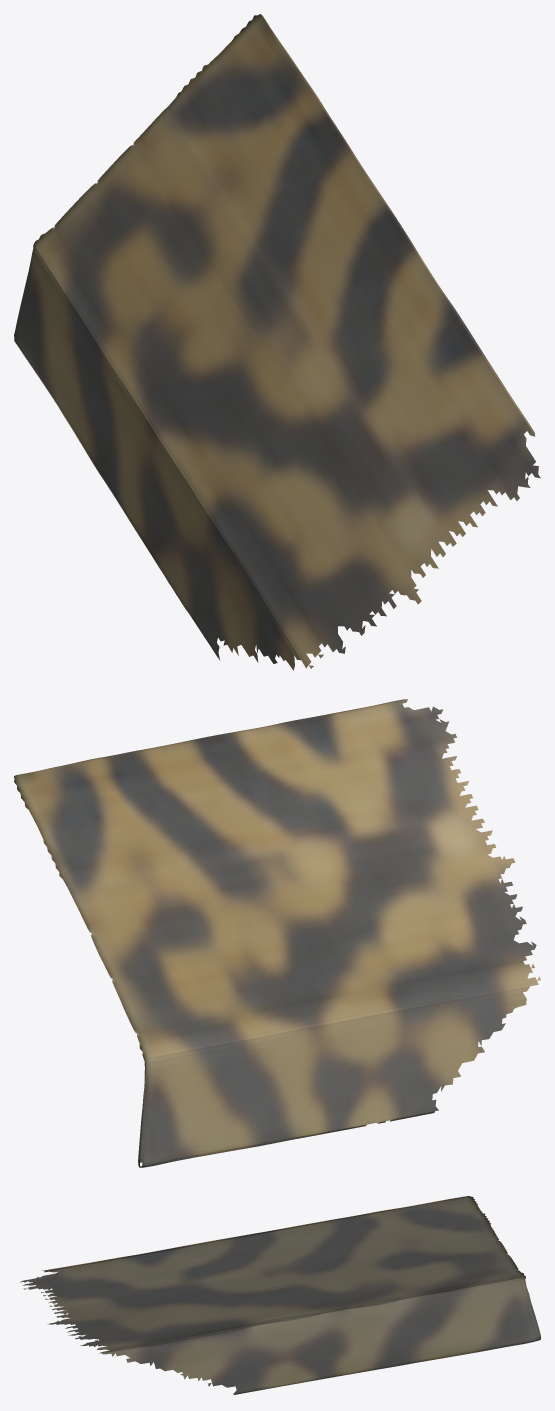
File: guard-left-initializer.glb
The picture shows the model from 3 angles, top to bottom: view 1: azimuth 30°, elevation 25°; view 2: azimuth 150°, elevation 25°; view 3: azimuth 270°, elevation 25°; orthographic projection. The views are drawn at different scales.
Visible parts, largest first — view 1: geometry_0; view 2: geometry_0; view 3: geometry_0.
Part boxes in pixels (<box>): geometry_0: <box>14,14,540,670</box>; geometry_0: <box>14,699,540,1167</box>; geometry_0: <box>20,1196,540,1394</box>.
Bounding box in the file's own units: 0.4754 × 0.7917 × 1.38.
